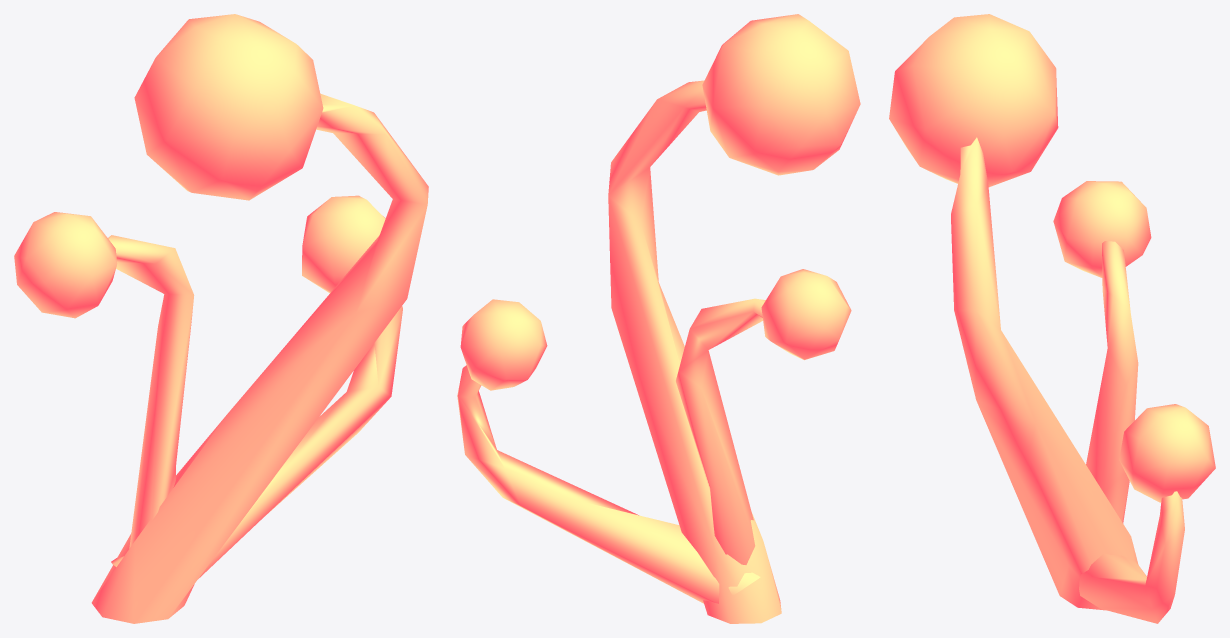
The model's file is tree-light.glb.
3 renders of one model, left to right at view 1: azimuth 30°, elevation 25°; view 2: azimuth 150°, elevation 25°; view 3: azimuth 270°, elevation 25°, orthographic. The views are drawn at different scales.
Visible parts, largest first — view 1: Tree_Light_1; view 2: Tree_Light_1; view 3: Tree_Light_1.
Boxes of the visible parts, box(x1,y1,x2,y2) form: Tree_Light_1: box(14, 14, 428, 623); Tree_Light_1: box(457, 14, 860, 623); Tree_Light_1: box(889, 14, 1215, 623).
Bounding box in the file's own units: 82.93 × 120 × 60.96.
